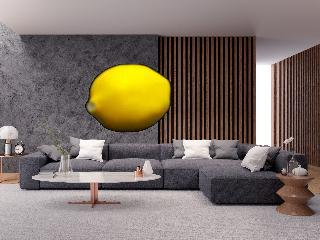lemon: (89, 66, 172, 133)
